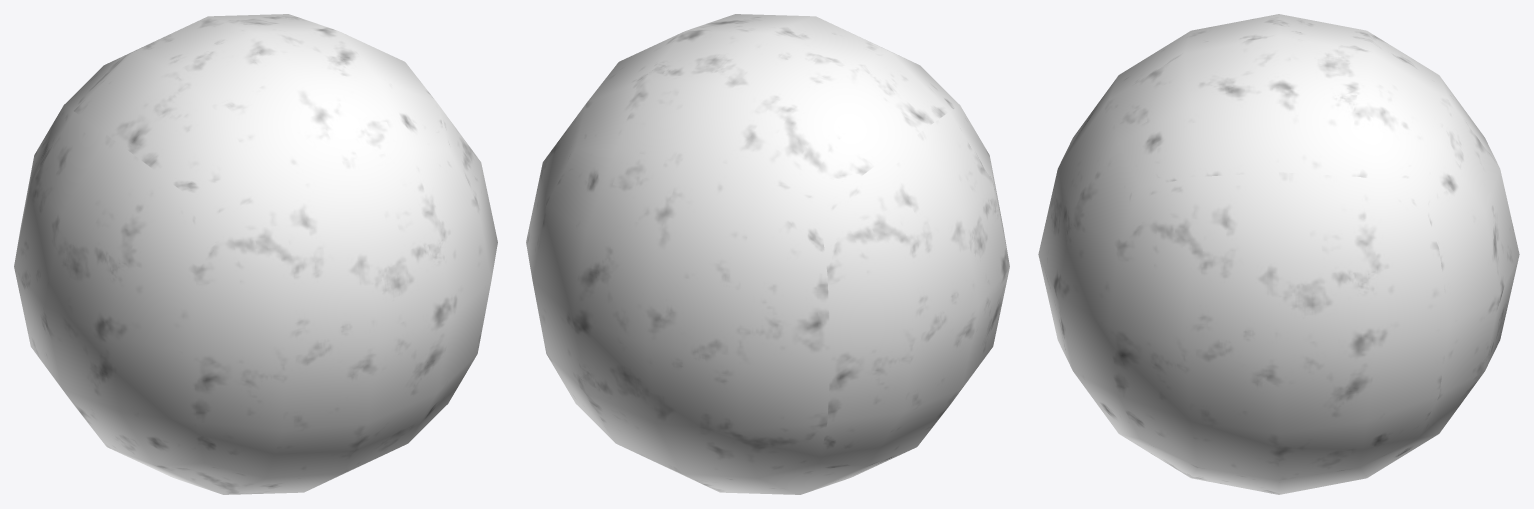
The model's file is disco_ball.glb.
The picture shows the model from 3 angles, left to right: view 1: azimuth 30°, elevation 25°; view 2: azimuth 150°, elevation 25°; view 3: azimuth 270°, elevation 25°; orthographic projection.
Visible parts, largest first — view 1: DiscoBall; view 2: DiscoBall; view 3: DiscoBall.
Part boxes in pixels (x1,y1,x2,y2): DiscoBall: (14, 14, 497, 494); DiscoBall: (526, 14, 1009, 494); DiscoBall: (1038, 14, 1519, 494).
Bounding box in the file's own units: 1 × 1 × 1.
1 material, 1 textured.
